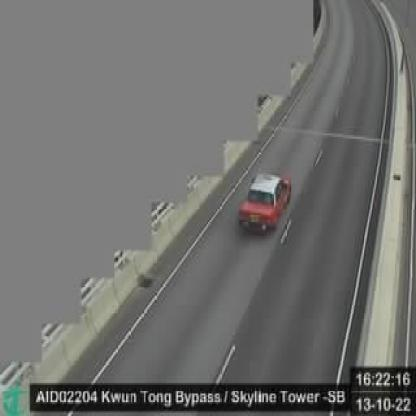Car: (238, 170, 293, 236)
